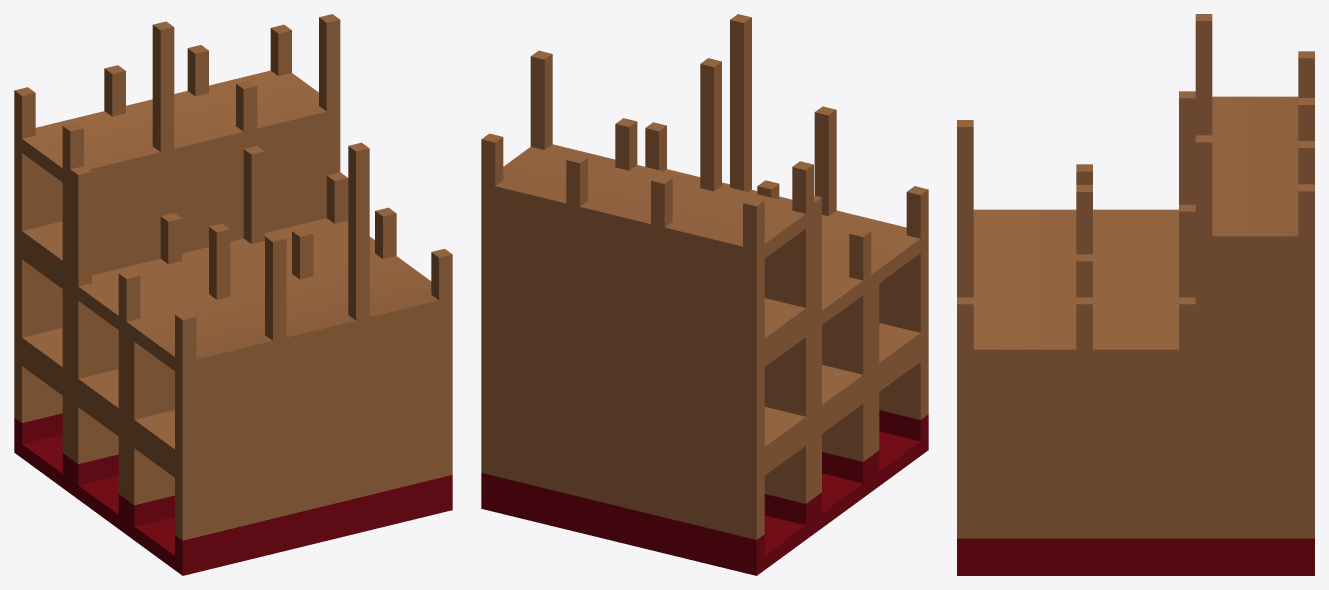
The model's file is 09 Building_2.FBX.
3 renders of one model, left to right at view 1: azimuth 30°, elevation 25°; view 2: azimuth 150°, elevation 25°; view 3: azimuth 270°, elevation 25°, orthographic. The views are drawn at different scales.
Parts seen in each view (by area): view 1: Building_2; view 2: Building_2; view 3: Building_2.
Part boxes in pixels (x1,y1,x2,y2): Building_2: (14,14,452,575); Building_2: (481,14,928,575); Building_2: (957,14,1314,575).
Size of the model in its own units: 1988 by 3107 by 2150.
